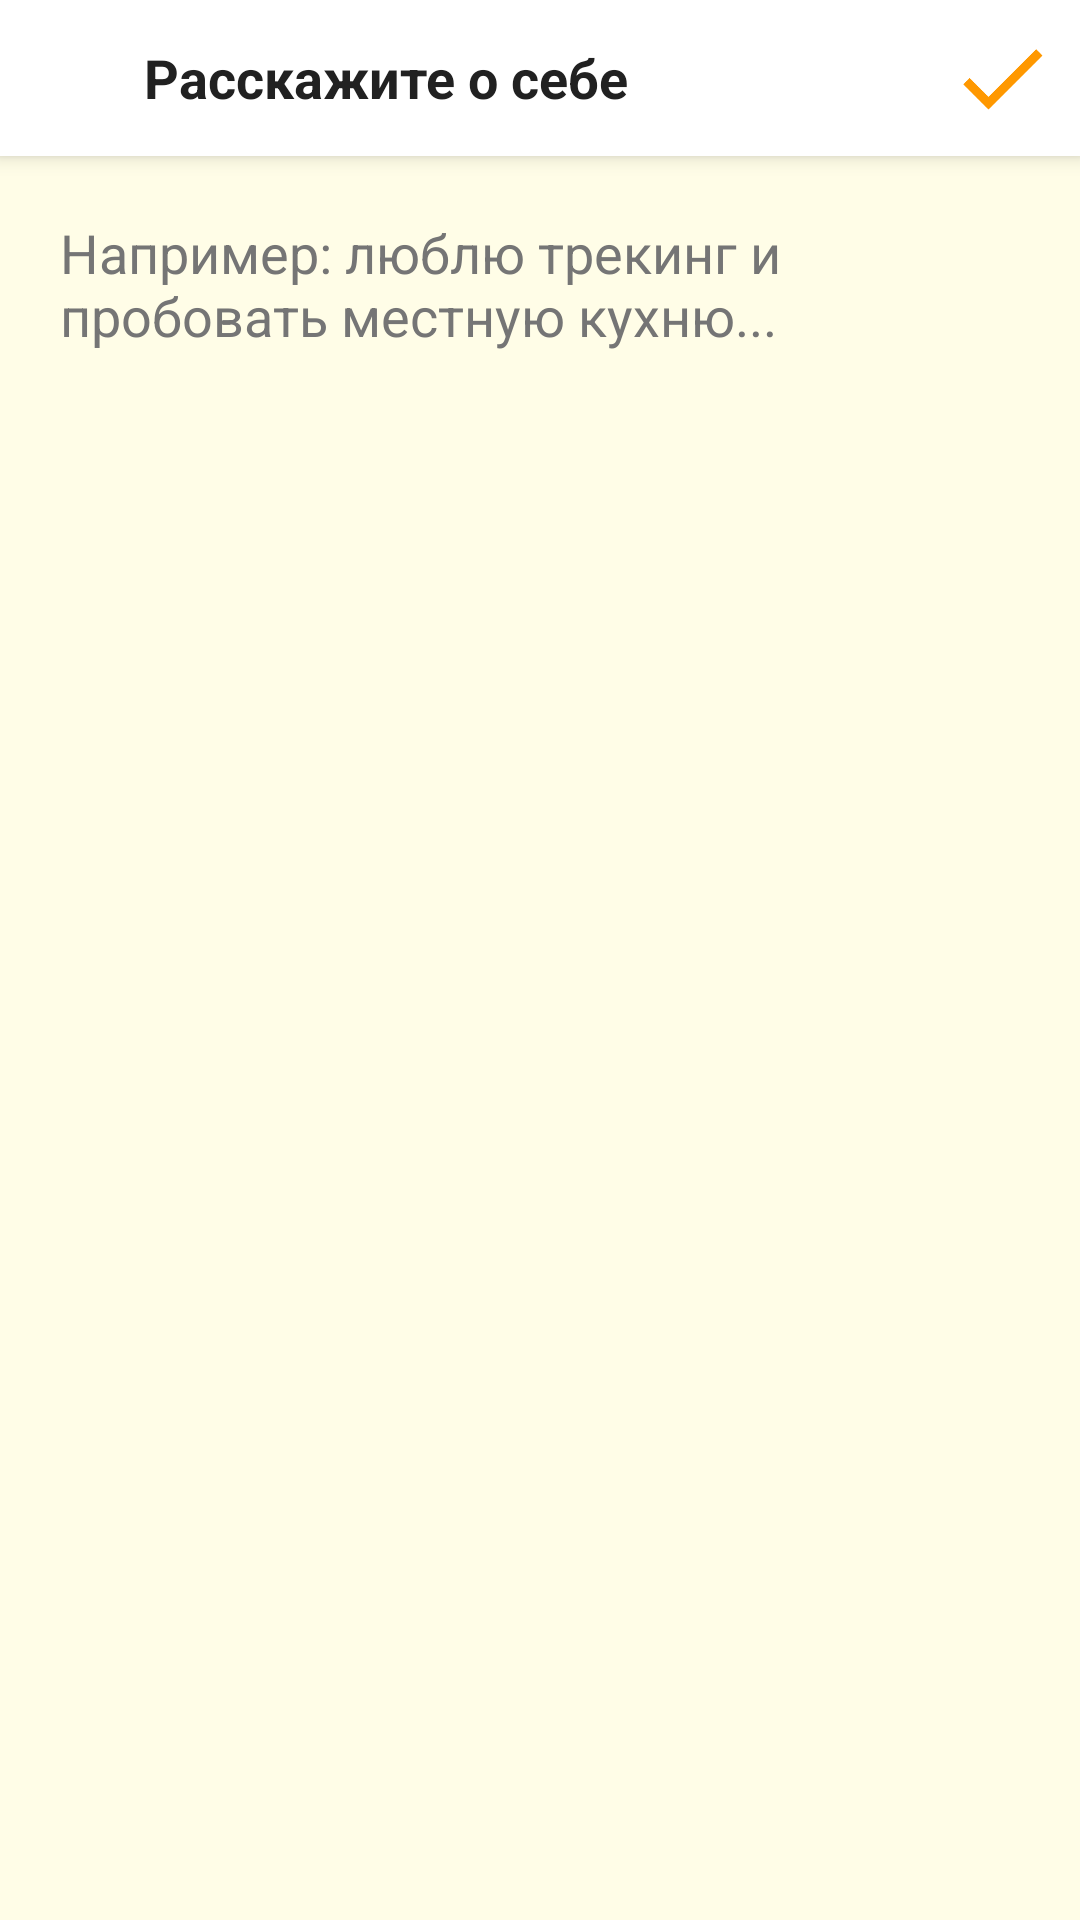

Screen size 1080 x 1920. Icon name, then its box in pixels as region(x1, y1, x2, y2):
Сохранить: region(963, 49, 1043, 110)
